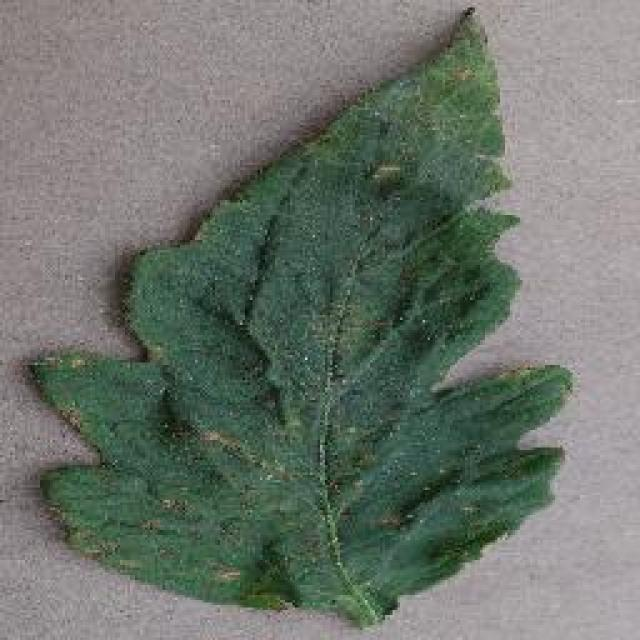Tomato bacterial spot leaf: (18, 1, 584, 632)
